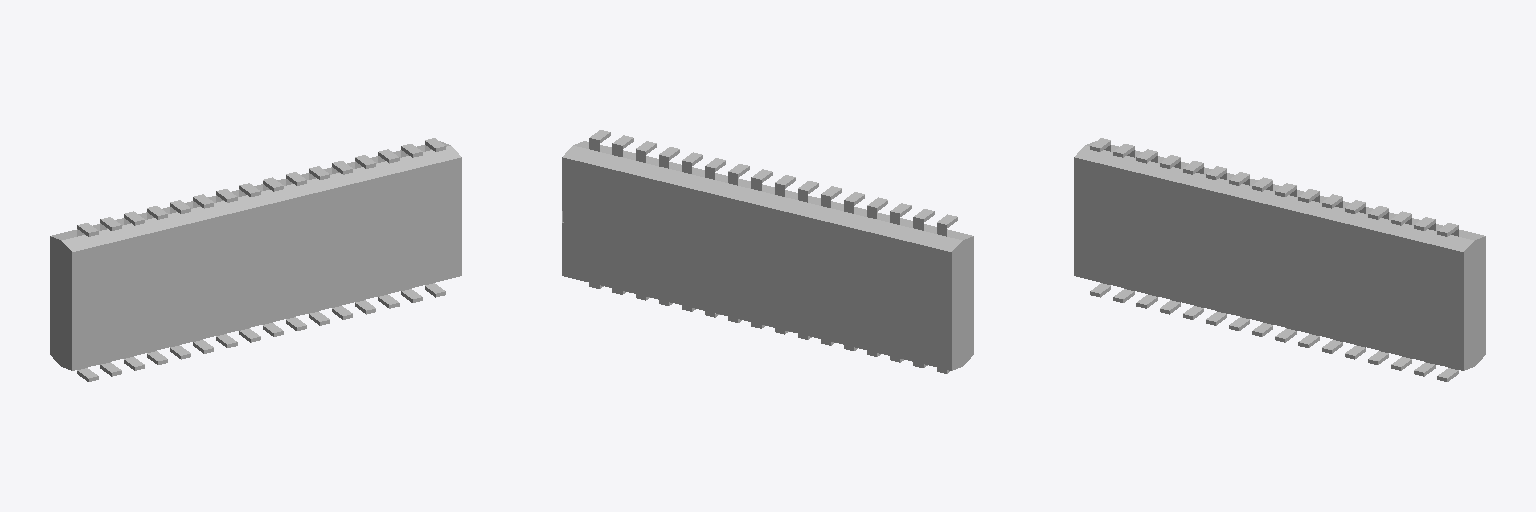
The model's file is Dil32.obj.
3 renders of one model, left to right at view 1: azimuth 30°, elevation 25°; view 2: azimuth 150°, elevation 25°; view 3: azimuth 330°, elevation 25°, orthographic.
Parts seen in each view (by area): view 1: ShapeIndexedFaceSet.065_ShapeIndexedFaceSet.066; view 2: ShapeIndexedFaceSet.065_ShapeIndexedFaceSet.066, ShapeIndexedFaceSet.064_ShapeIndexedFaceSet.065; view 3: ShapeIndexedFaceSet.065_ShapeIndexedFaceSet.066.
Boxes of the visible parts, x1,y1,x2,y2 form: ShapeIndexedFaceSet.065_ShapeIndexedFaceSet.066: [50, 141, 461, 370]; ShapeIndexedFaceSet.065_ShapeIndexedFaceSet.066: [562, 141, 973, 370]; ShapeIndexedFaceSet.064_ShapeIndexedFaceSet.065: [573, 200, 653, 257]; ShapeIndexedFaceSet.065_ShapeIndexedFaceSet.066: [1074, 141, 1485, 370].
Bounding box in the file's own units: 42.77 × 15.64 × 4.26.